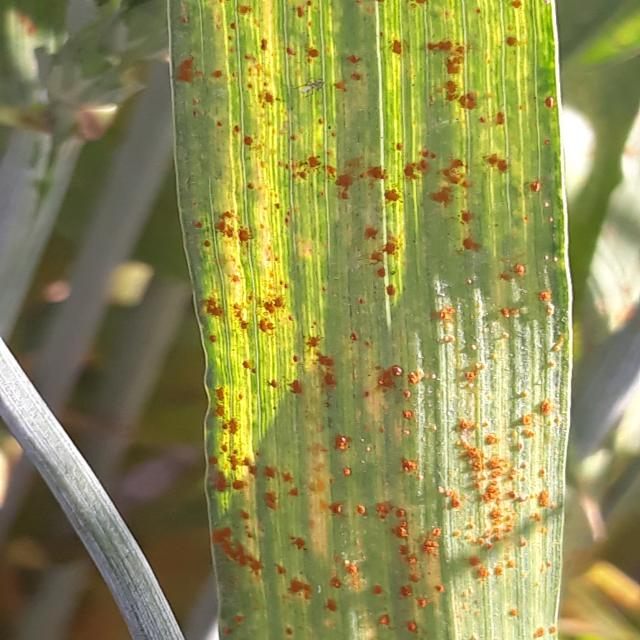orang_rust: (155, 0, 588, 640)
